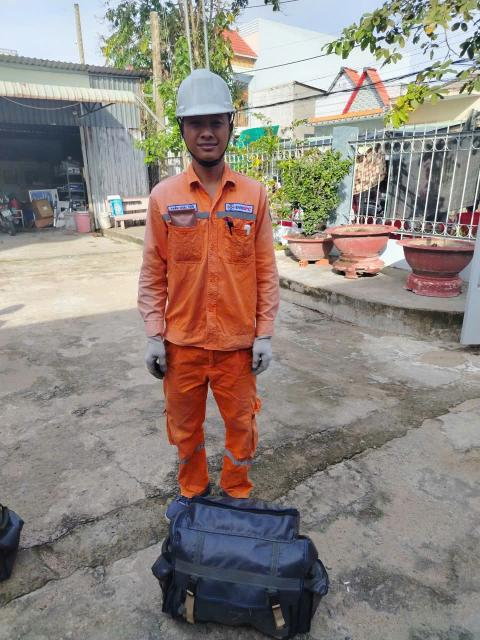gloves: (134, 330, 180, 384), (241, 331, 283, 382)
helmet: (170, 56, 247, 128)
